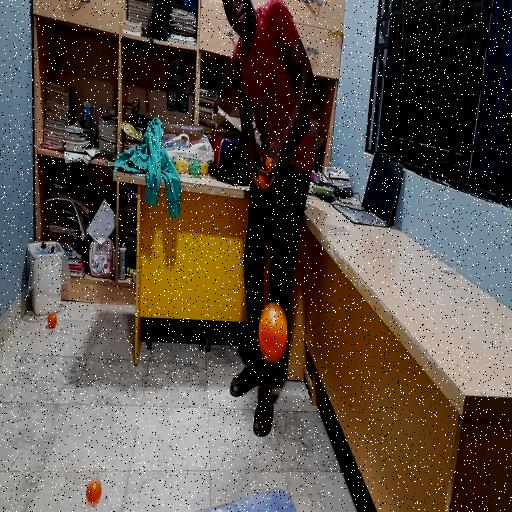plastic-ball: (257, 300, 290, 368)
